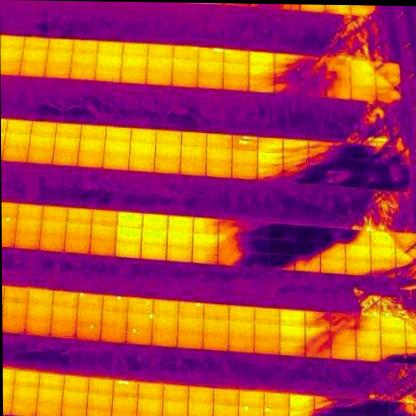Diode: (199, 48, 225, 60), (173, 46, 198, 58)
Hotspot: (76, 321, 103, 340), (112, 396, 139, 414), (127, 328, 152, 346), (126, 312, 153, 328), (179, 302, 205, 318), (128, 298, 154, 314), (78, 293, 104, 309), (112, 381, 138, 397), (231, 135, 259, 149), (103, 296, 129, 311), (264, 393, 289, 408), (53, 292, 78, 305), (237, 405, 264, 416), (263, 408, 289, 416)
Normal: (101, 321, 127, 345), (206, 158, 233, 178), (26, 317, 52, 337), (319, 256, 346, 275), (229, 333, 254, 353), (254, 334, 280, 353), (202, 332, 229, 350), (92, 209, 117, 228), (152, 328, 177, 347), (166, 245, 192, 263), (88, 377, 114, 395), (288, 394, 315, 411), (41, 220, 68, 237), (16, 219, 43, 236), (248, 77, 275, 94), (146, 68, 173, 85), (52, 320, 77, 338), (3, 145, 28, 163), (138, 382, 163, 400), (178, 331, 203, 349), (345, 259, 371, 276), (141, 244, 167, 261), (64, 237, 90, 254), (116, 212, 142, 229), (12, 386, 38, 403), (154, 158, 180, 175), (38, 372, 64, 389), (14, 371, 40, 388), (162, 400, 189, 416), (137, 398, 164, 414), (29, 287, 53, 305), (166, 230, 193, 246), (102, 153, 129, 169), (120, 68, 147, 84), (197, 60, 224, 76), (280, 309, 305, 326), (52, 304, 77, 321), (28, 303, 53, 320), (193, 233, 218, 250), (181, 159, 206, 176), (279, 324, 305, 340), (229, 318, 255, 334), (229, 304, 255, 320), (203, 303, 229, 319), (87, 394, 113, 410), (192, 249, 218, 265), (39, 236, 65, 252), (116, 227, 142, 243), (238, 391, 264, 407), (212, 389, 238, 405), (129, 156, 155, 172), (27, 147, 53, 163), (130, 141, 156, 157), (156, 129, 182, 145), (223, 76, 249, 92), (2, 316, 26, 333), (202, 318, 229, 333), (370, 245, 397, 260), (172, 72, 199, 87), (95, 67, 122, 82), (356, 330, 381, 346), (153, 314, 178, 330), (4, 287, 29, 303), (116, 242, 141, 258), (63, 391, 88, 407), (67, 222, 92, 238), (67, 208, 92, 224), (163, 385, 188, 401), (131, 127, 156, 143), (64, 375, 89, 391), (198, 75, 223, 91), (153, 300, 179, 315), (345, 245, 371, 260), (142, 214, 168, 229), (37, 389, 63, 404), (17, 205, 43, 220), (207, 133, 233, 148), (31, 121, 57, 136), (350, 86, 376, 101), (69, 65, 95, 80), (44, 65, 70, 80), (22, 49, 48, 64), (223, 49, 249, 64), (147, 44, 173, 59), (356, 345, 382, 360), (331, 344, 357, 359), (89, 241, 116, 255), (155, 144, 182, 158), (4, 132, 31, 146), (181, 133, 208, 147), (80, 126, 107, 140), (122, 43, 149, 57), (11, 402, 38, 416), (381, 332, 406, 347), (380, 317, 405, 332), (15, 235, 40, 250), (92, 226, 117, 241), (193, 218, 218, 233), (188, 388, 213, 403), (232, 163, 257, 178), (53, 149, 78, 164), (259, 137, 284, 152), (21, 62, 46, 77), (280, 340, 305, 355), (102, 309, 128, 323), (77, 308, 103, 322), (78, 152, 104, 166), (232, 149, 258, 163), (55, 137, 81, 151), (325, 86, 351, 100), (350, 73, 376, 87), (223, 63, 249, 77), (97, 41, 123, 55), (254, 321, 278, 336), (41, 207, 68, 220), (146, 57, 173, 70), (96, 55, 123, 68), (255, 307, 280, 321), (3, 302, 28, 316), (142, 230, 167, 244), (168, 217, 193, 231), (258, 151, 283, 165), (249, 52, 274, 66), (178, 317, 204, 330), (207, 147, 233, 160), (181, 146, 207, 159), (283, 138, 309, 151), (73, 41, 99, 54), (36, 403, 62, 416), (106, 128, 131, 141), (6, 120, 31, 133), (72, 53, 97, 66), (49, 40, 74, 53), (79, 140, 106, 152), (55, 125, 82, 137), (349, 61, 376, 73), (121, 56, 148, 68), (46, 53, 73, 65), (22, 39, 49, 51), (249, 65, 275, 77), (213, 404, 239, 416), (188, 404, 214, 416), (173, 59, 198, 71), (105, 142, 131, 153), (30, 136, 56, 147), (62, 407, 87, 416)
Shadow: (370, 259, 397, 279), (338, 398, 365, 416), (295, 238, 320, 257), (269, 253, 295, 271), (308, 154, 334, 172), (243, 236, 270, 253), (284, 166, 309, 184), (298, 69, 326, 85), (320, 242, 346, 259), (217, 219, 243, 236), (334, 155, 361, 171), (360, 145, 387, 161), (330, 312, 355, 329), (305, 326, 331, 342), (364, 400, 390, 416), (313, 397, 339, 413), (295, 256, 321, 272), (370, 231, 396, 247), (344, 229, 370, 245), (361, 174, 387, 190), (376, 87, 402, 103), (330, 329, 357, 344), (361, 160, 388, 175), (324, 72, 351, 87), (304, 342, 331, 357), (305, 311, 330, 327), (270, 238, 295, 254), (283, 151, 308, 167), (243, 253, 269, 268), (320, 228, 346, 243), (294, 226, 320, 241), (258, 165, 284, 180), (334, 142, 360, 157), (324, 58, 350, 73), (300, 55, 326, 70), (218, 235, 242, 251), (243, 221, 270, 235), (334, 171, 361, 185), (376, 73, 403, 87), (355, 316, 380, 331), (218, 251, 243, 266), (269, 223, 294, 238), (309, 170, 334, 185), (381, 347, 406, 362), (308, 140, 334, 154), (386, 178, 410, 193), (388, 146, 410, 162), (299, 84, 325, 97), (386, 163, 410, 177), (275, 80, 299, 94), (275, 66, 299, 80), (374, 61, 402, 73), (390, 403, 415, 416), (275, 53, 299, 66)
